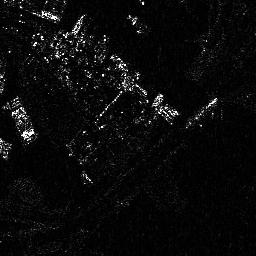ship: (184, 96, 218, 129)
